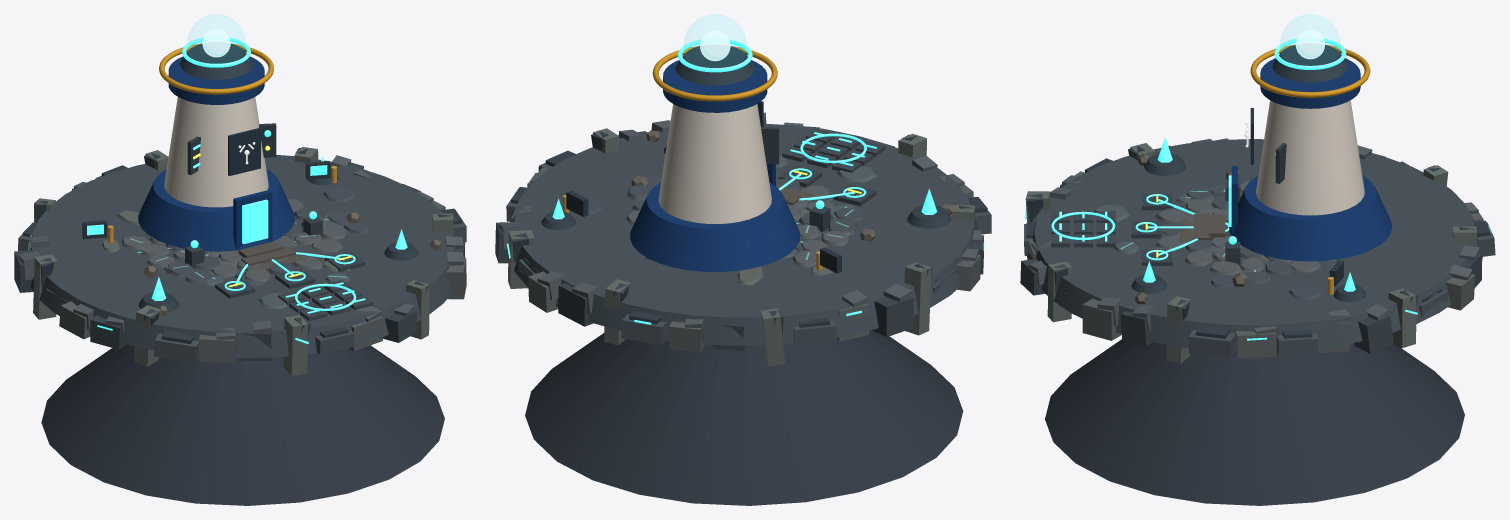
Rendered from island-06-free-mode__static.glb.
The picture shows the model from 3 angles, left to right: view 1: azimuth 30°, elevation 25°; view 2: azimuth 150°, elevation 25°; view 3: azimuth 270°, elevation 25°; orthographic projection. The views are drawn at different scales.
Visible parts, largest first — view 1: I06_BASE, I06_FREE_SURFACE, I06_TOWER, I06_EDGE_ROCKS, I06_STONE_PLAZA, I06_METAL_WORKSHOP_PAD, I06_CRYSTALS, I06_TERMINALS, I06_FREE_MARKERS, I06_BUILD_SLOT_01, I06_BUILD_SLOT_02, I06_BUILD_SLOT_03; view 2: I06_BASE, I06_FREE_SURFACE, I06_TOWER, I06_EDGE_ROCKS, I06_STONE_PLAZA, I06_METAL_WORKSHOP_PAD, I06_CRYSTALS, I06_TERMINALS, I06_BUILD_SLOT_01, object 20; view 3: I06_BASE, I06_FREE_SURFACE, I06_TOWER, I06_EDGE_ROCKS, I06_STONE_PLAZA, I06_CRYSTALS, I06_METAL_WORKSHOP_PAD, I06_BUILD_SLOT_02.
Part boxes in pixels (bbox=[...]): I06_BASE: bbox=[41, 344, 444, 505]; I06_FREE_SURFACE: bbox=[27, 155, 454, 358]; I06_TOWER: bbox=[138, 29, 307, 272]; I06_EDGE_ROCKS: bbox=[14, 147, 466, 376]; I06_STONE_PLAZA: bbox=[121, 199, 349, 283]; I06_METAL_WORKSHOP_PAD: bbox=[278, 279, 373, 320]; I06_CRYSTALS: bbox=[138, 156, 418, 312]; I06_TERMINALS: bbox=[82, 161, 336, 242]; I06_FREE_MARKERS: bbox=[185, 211, 322, 268]; I06_BUILD_SLOT_01: bbox=[215, 278, 255, 298]; I06_BUILD_SLOT_02: bbox=[275, 268, 315, 288]; I06_BUILD_SLOT_03: bbox=[325, 251, 364, 271]; I06_BASE: bbox=[525, 330, 963, 505]; I06_FREE_SURFACE: bbox=[507, 123, 978, 345]; I06_TOWER: bbox=[630, 30, 813, 271]; I06_EDGE_ROCKS: bbox=[495, 112, 991, 366]; I06_STONE_PLAZA: bbox=[626, 179, 865, 267]; I06_METAL_WORKSHOP_PAD: bbox=[782, 129, 885, 172]; I06_CRYSTALS: bbox=[541, 146, 951, 229]; I06_TERMINALS: bbox=[563, 191, 841, 273]; I06_BUILD_SLOT_01: bbox=[833, 184, 876, 206]; object 20: bbox=[761, 127, 778, 164]; I06_BASE: bbox=[1045, 339, 1464, 505]; I06_FREE_SURFACE: bbox=[1027, 139, 1482, 351]; I06_TOWER: bbox=[1179, 30, 1392, 261]; I06_EDGE_ROCKS: bbox=[1020, 138, 1495, 363]; I06_STONE_PLAZA: bbox=[1156, 181, 1321, 284]; I06_CRYSTALS: bbox=[1131, 137, 1366, 301]; I06_METAL_WORKSHOP_PAD: bbox=[1051, 211, 1115, 247]; I06_BUILD_SLOT_02: bbox=[1131, 221, 1161, 238].
Size of the model in its own units: 9.04 by 8.36 by 9.
